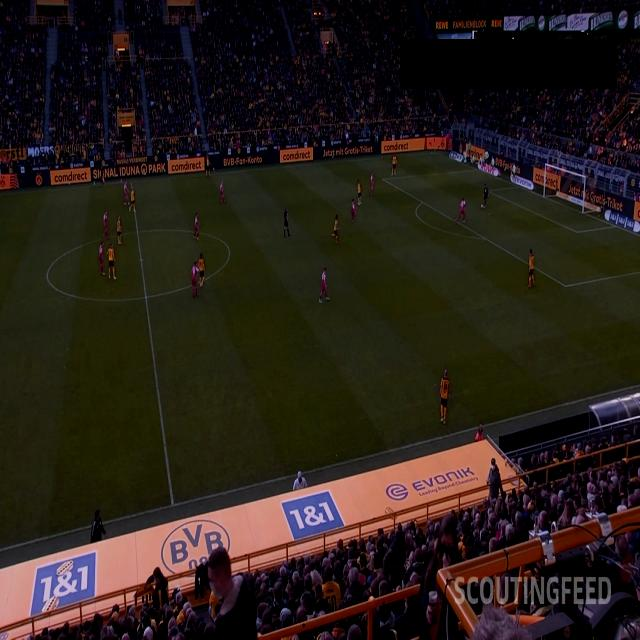ball: (480, 203, 484, 210)
f_player: (437, 365, 451, 425), (190, 255, 206, 299), (108, 240, 118, 282), (317, 268, 328, 304), (526, 250, 536, 287), (97, 238, 107, 274), (116, 214, 126, 248), (457, 200, 468, 226), (101, 210, 111, 238), (127, 188, 137, 214), (332, 216, 340, 244), (122, 180, 130, 208), (356, 178, 364, 206), (193, 214, 201, 240), (220, 182, 228, 205), (482, 184, 489, 210), (349, 199, 357, 221), (204, 153, 211, 177), (392, 156, 400, 176), (370, 174, 376, 198)
umpire: (282, 211, 290, 240)
